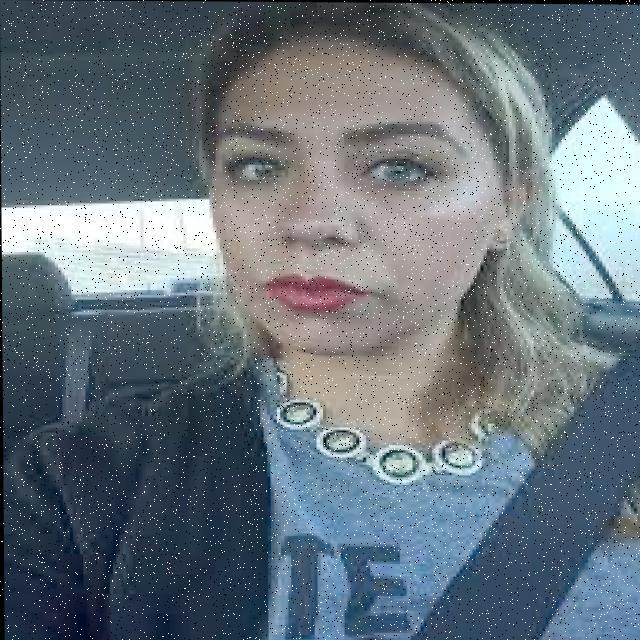seatbelt: (153, 298, 640, 640)
